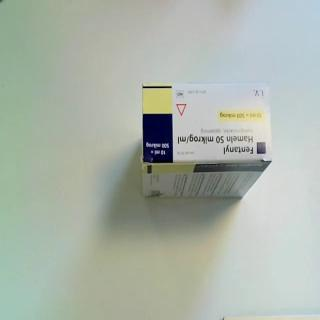fentanyl50ug_ml: (140, 82, 274, 201)
